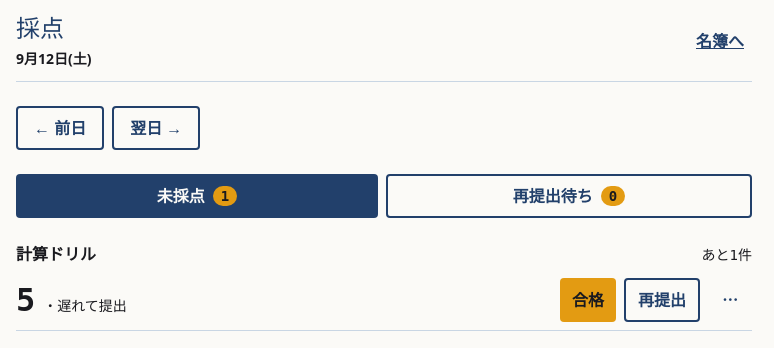
Scenario: 採点画面 › 再提出にすると再提出待ちセクションに移る
The image size is (774, 348).
Step 1. Click the button with aria-label "8月24日(月)の5番（計算ドリル）を再提出にする" → (662, 300), box [624,278,700,322]
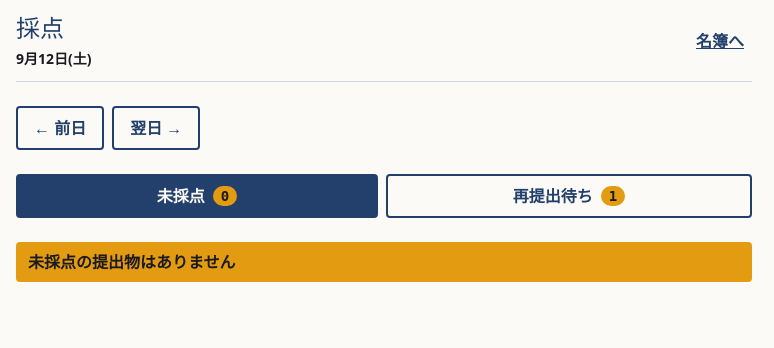
Check: the text "未採点の提出物はありません" is shown, box [16,242,752,282]
Step 2. Click the tab "再提出待ち 1" → (569, 196), box [386,174,752,218]
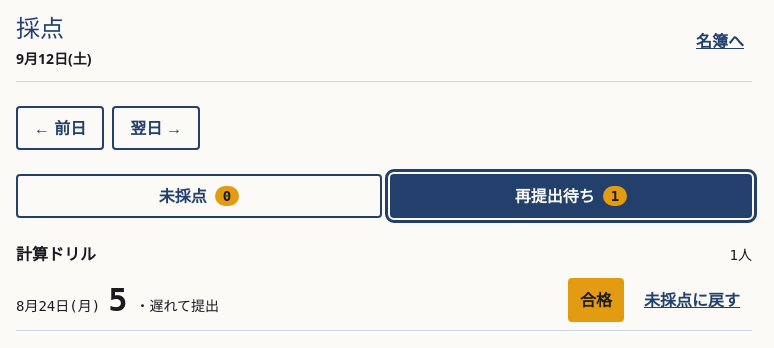
Check: the button with aria-label "8月24日(月)の5番（計算ドリル）を未採点に戻す" is shown, box [632,278,752,322]
